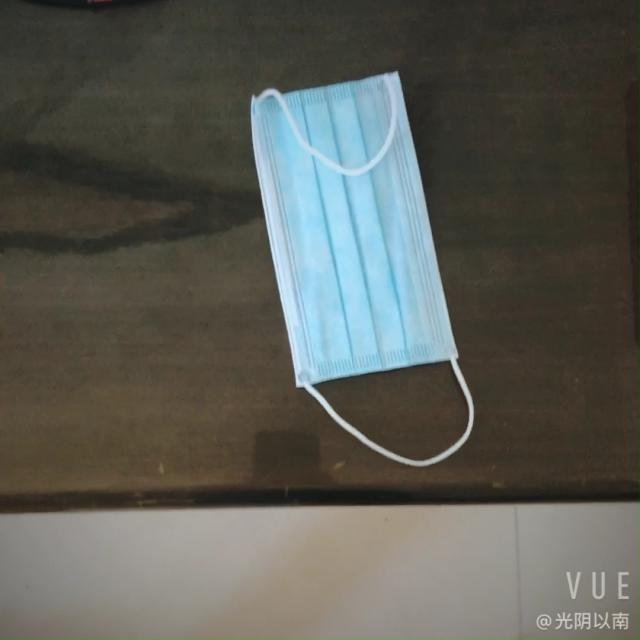face mask: (226, 60, 483, 394)
